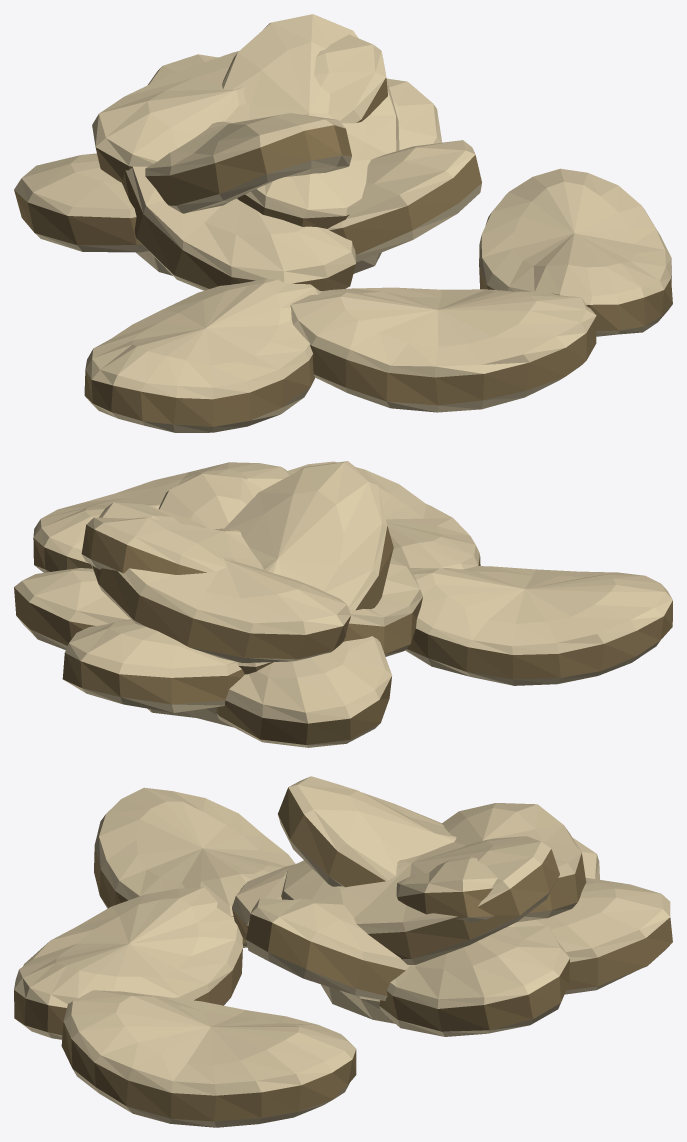
File: oat.glb
The picture shows the model from 3 angles, top to bottom: view 1: azimuth 30°, elevation 25°; view 2: azimuth 150°, elevation 25°; view 3: azimuth 270°, elevation 25°; orthographic projection. The views are drawn at different scales.
Bounding box in the file's own units: 2.03 × 0.6625 × 1.96.
